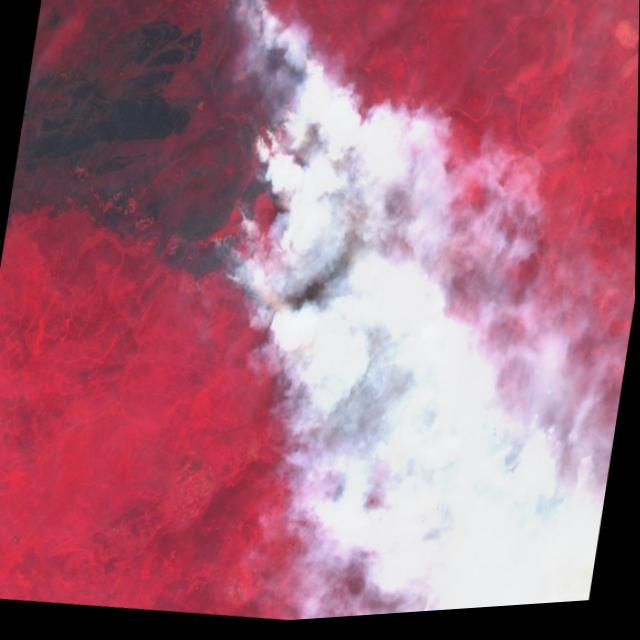fire: (128, 0, 640, 633)
